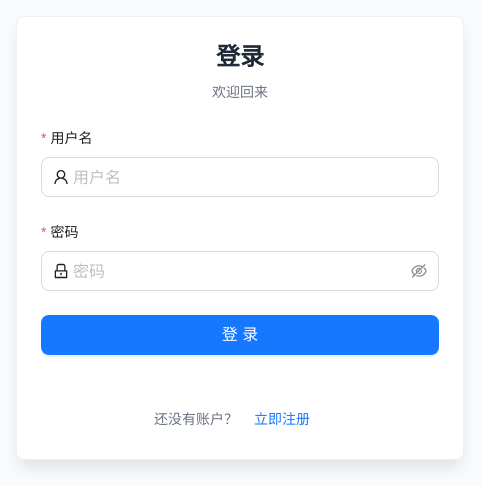
LoginForm › renders register form when toggled
The width and height of the screenshot is (481, 486).
Click the button with test id "toggle-mode-button" at (282,419), box x1=238 y1=403 x2=326 y2=435
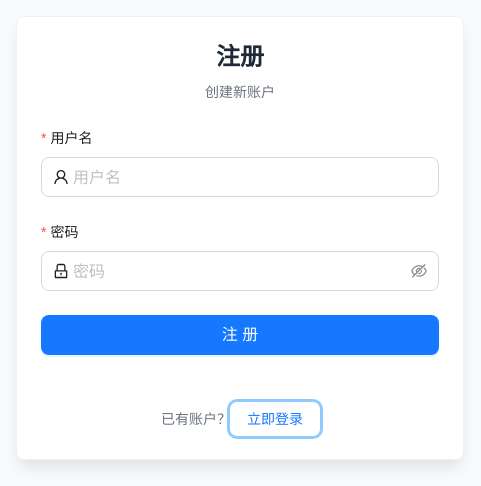
Now the heading "注册" is shown, box x1=216 y1=42 x2=264 y2=71
Now the text "创建新账户" is shown, box x1=205 y1=83 x2=275 y2=100
Now the text "已有账户？" is shown, box x1=161 y1=410 x2=231 y2=427
